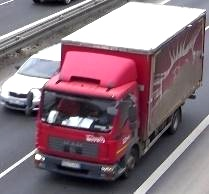car: (1, 55, 61, 115)
